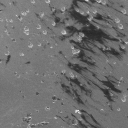corrosion: (70, 44, 80, 55), (76, 32, 85, 42), (21, 9, 29, 17), (120, 7, 127, 16), (27, 41, 34, 49), (121, 95, 127, 104), (74, 108, 81, 115), (38, 11, 45, 18), (114, 17, 121, 24), (69, 71, 75, 79), (87, 14, 93, 22), (19, 51, 25, 58), (60, 6, 67, 12), (50, 20, 56, 27), (51, 95, 57, 102), (3, 50, 10, 56), (60, 68, 66, 75), (42, 29, 48, 35), (36, 24, 42, 30), (23, 26, 30, 31), (61, 29, 66, 35), (45, 105, 50, 111), (116, 106, 121, 112), (44, 1, 51, 5), (8, 18, 13, 23), (36, 42, 41, 47)
